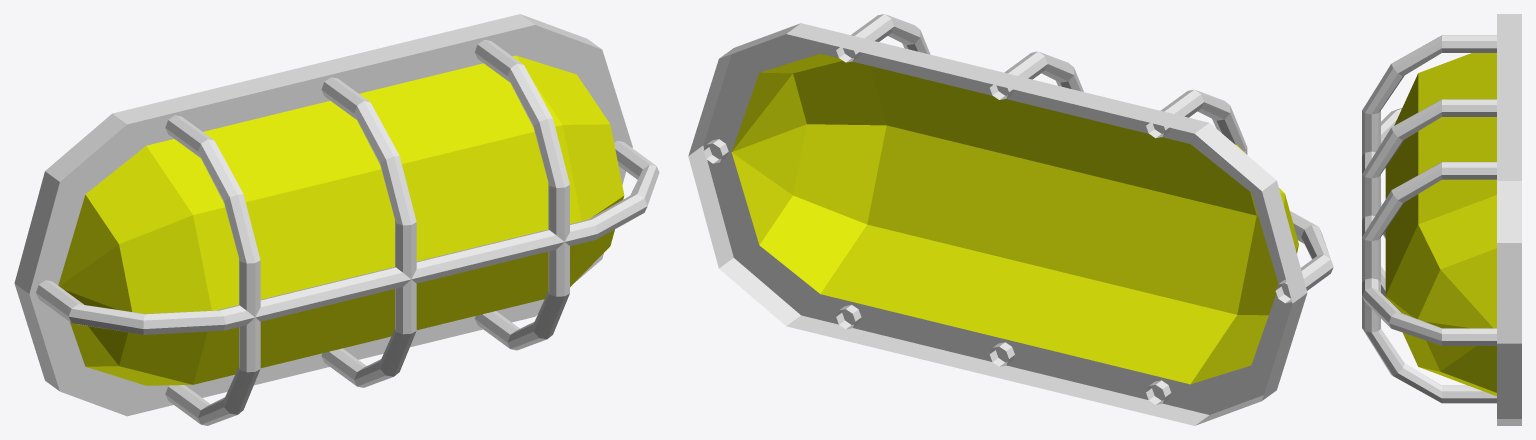
Rendered from M_Lamp.fbx.
3 views of the same model, side by side, from view 1: azimuth 30°, elevation 25°; view 2: azimuth 150°, elevation 25°; view 3: azimuth 270°, elevation 25° (orthographic). The views are drawn at different scales.
Parts seen in each view (by area): view 1: M_Lamp; view 2: M_Lamp; view 3: M_Lamp.
Boxes of the visible parts, <box> form: M_Lamp: <box>14,14,659,425</box>; M_Lamp: <box>688,14,1333,425</box>; M_Lamp: <box>1362,14,1521,425</box>.
Bounding box in the file's own units: 196 × 90.51 × 53.49.
